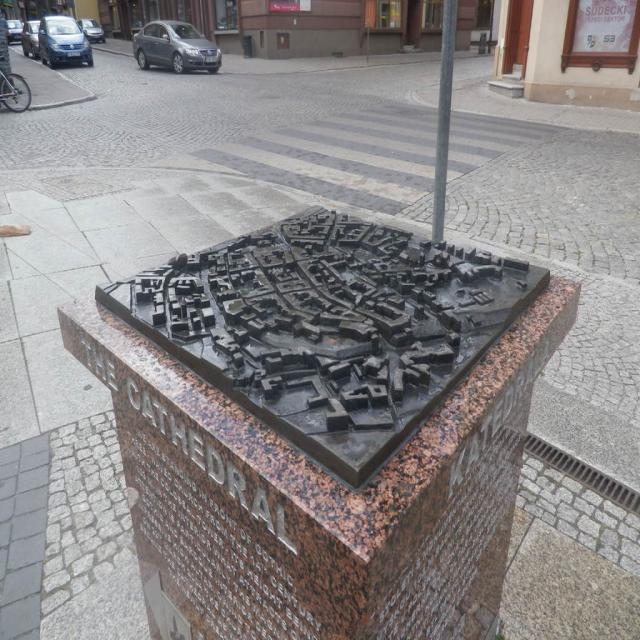car: (131, 20, 221, 71), (38, 15, 92, 67)
